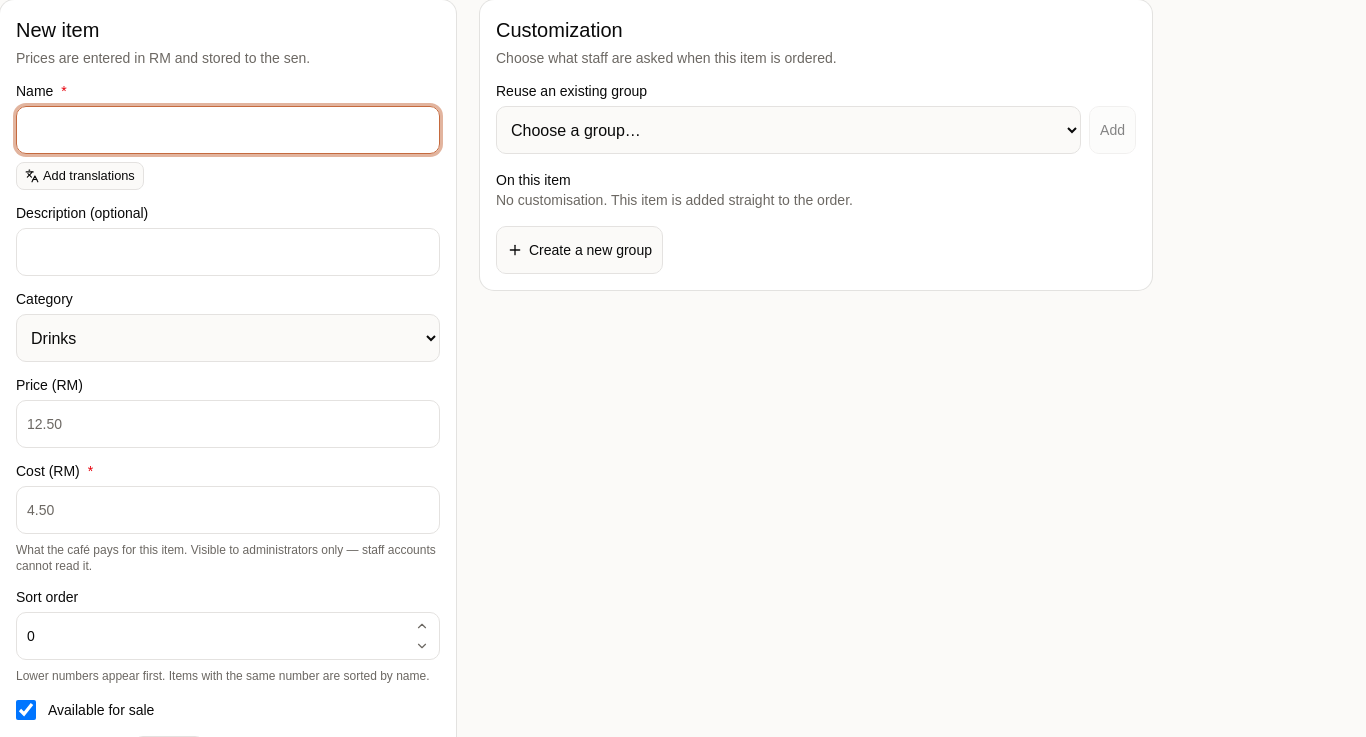
creating an item together with its customisation › offers Shared by default, and says what that means
What coordinates should you click on to do the following:
click the button with test id "create-new-group"
I would click on:
 (580, 250)
Its box is [496, 226, 663, 274].
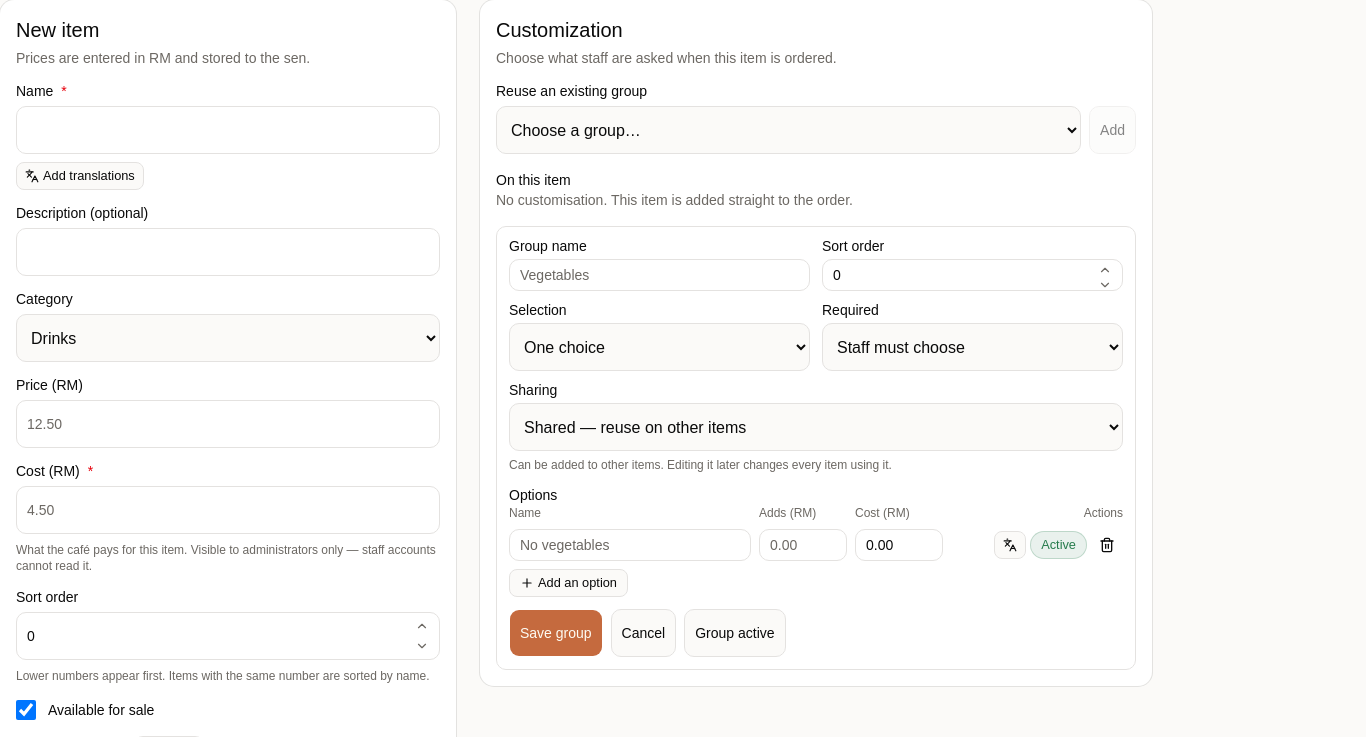
Expected: the dropdown with test id "group-sharing" shows "Shared — reuse on other items", [509, 403, 1123, 451]
Expected: the text with test id "group-sharing-hint" shows "changes every item using it", [509, 458, 892, 472]
